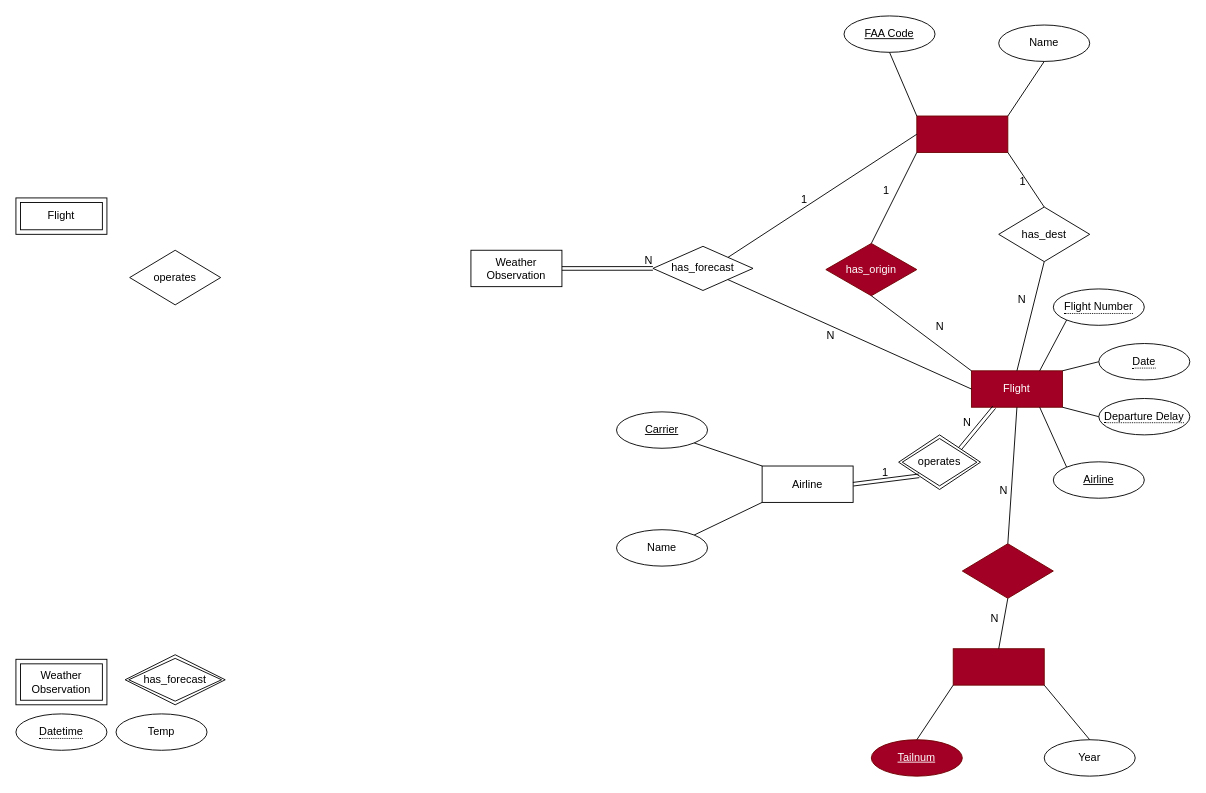
Image size: 1206x793. Some labels were removed from this diagram. The box of each missing label's shape, as (x1, y1, x2, y2) in pixels:
Airport: (916, 115, 1008, 152)
has_plane: (961, 543, 1053, 598)
Plane: (952, 648, 1044, 685)
